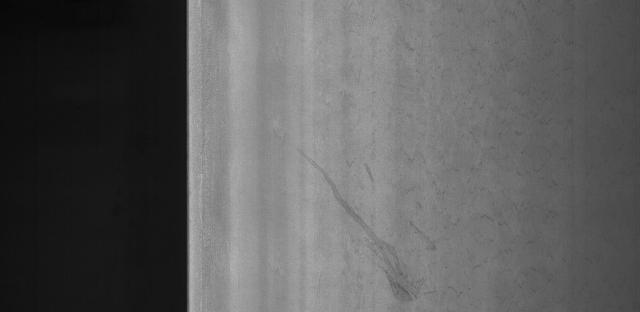silk_spot: (349, 10, 563, 197)
water_spot: (292, 146, 445, 312)
